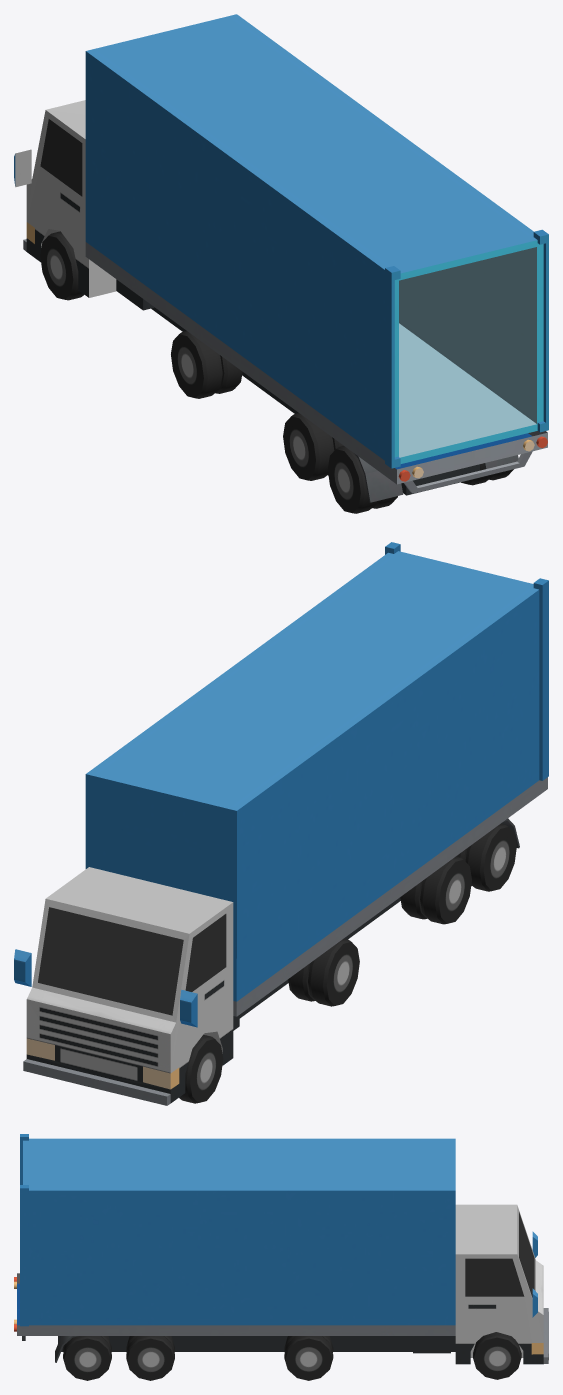
Rendered from BI_container_model.fbx.
3 renders of one model, top to bottom at view 1: azimuth 30°, elevation 25°; view 2: azimuth 150°, elevation 25°; view 3: azimuth 270°, elevation 25°, orthographic. The views are drawn at different scales.
Parts seen in each view (by area): view 1: BI_container_model; view 2: BI_container_model; view 3: BI_container_model.
Boxes of the visible parts, x1=… form: BI_container_model: x1=14, y1=14, x2=548, y2=513; BI_container_model: x1=14, y1=542, x2=548, y2=1105; BI_container_model: x1=14, y1=1134, x2=548, y2=1380.
Bounding box in the file's own units: 344 × 496 × 1240.
